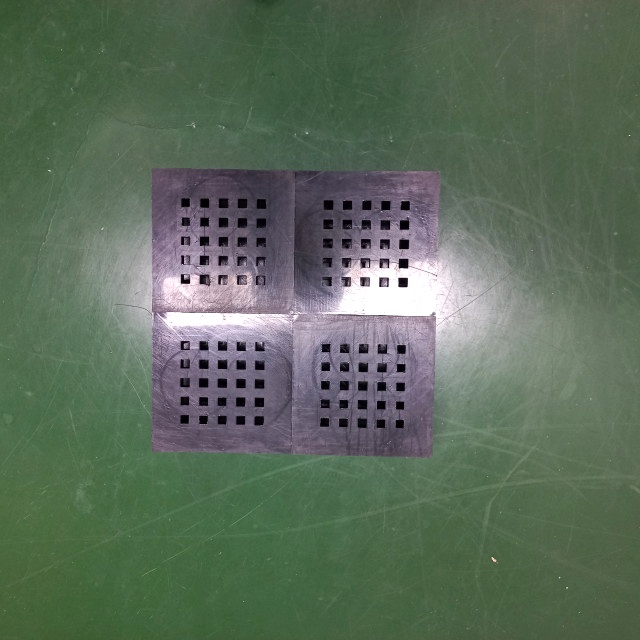pallet: (147, 157, 444, 462)
